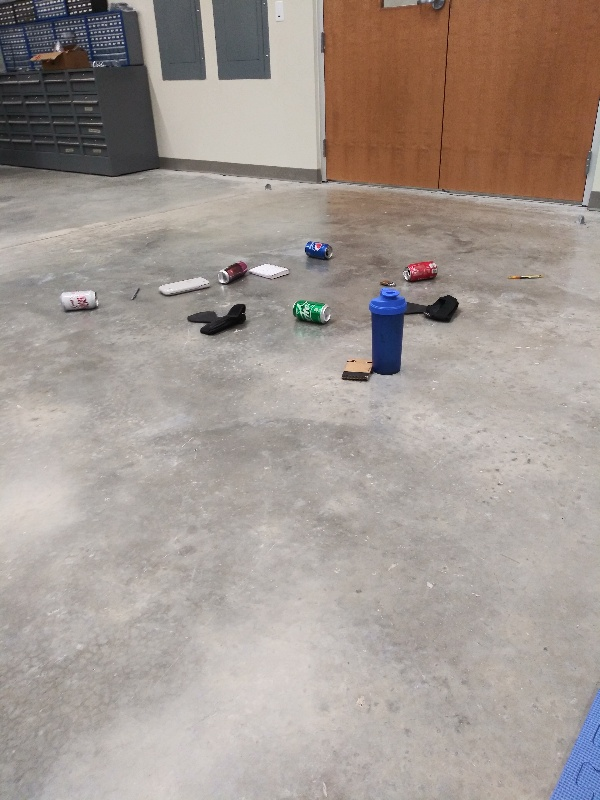can: (288, 297, 335, 328), (57, 287, 101, 313), (213, 260, 253, 286), (301, 236, 339, 260), (401, 260, 441, 282)
